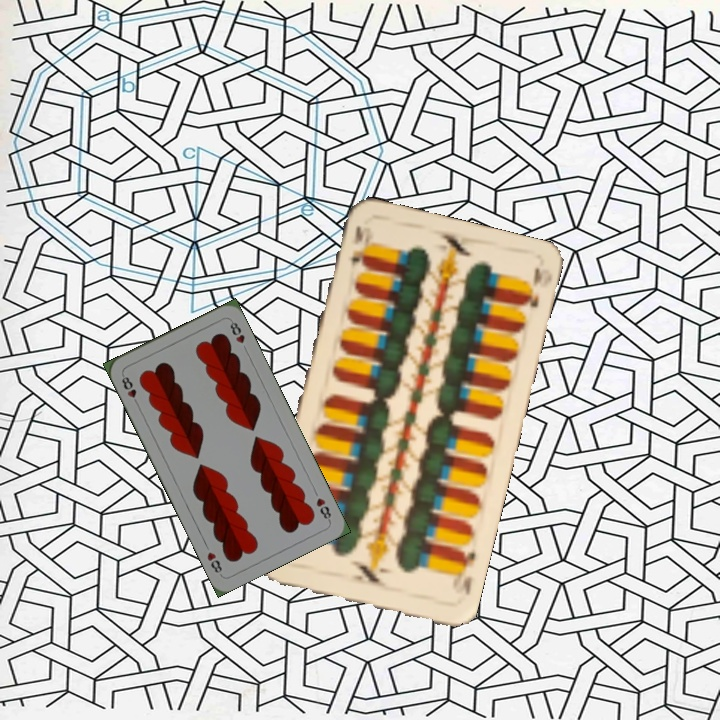E10: (455, 546, 479, 598), (346, 222, 366, 269)
H8: (117, 370, 142, 408), (312, 494, 334, 524)
